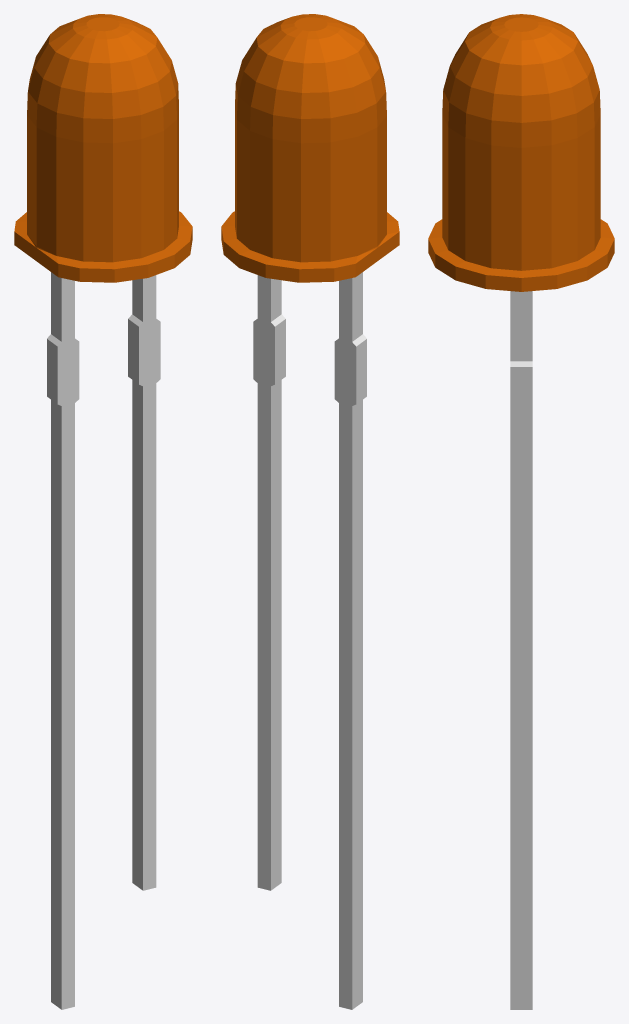
The model's file is tallstrobe.fbx.
The picture shows the model from 3 angles, left to right: view 1: azimuth 30°, elevation 25°; view 2: azimuth 150°, elevation 25°; view 3: azimuth 270°, elevation 25°; orthographic projection. The views are drawn at different scales.
Parts seen in each view (by area): view 1: Plastic Bi, Wire; view 2: Plastic Bi, Wire; view 3: Plastic Bi, Wire.
Part boxes in pixels (x1,y1,x2,y2): Plastic Bi: (14,14,192,282); Wire: (47,272,160,1009); Plastic Bi: (221,14,399,282); Wire: (253,272,366,1009); Plastic Bi: (428,14,614,291); Wire: (510,291,532,1009).
Bounding box in the file's own units: 49.21 × 315 × 53.12.
